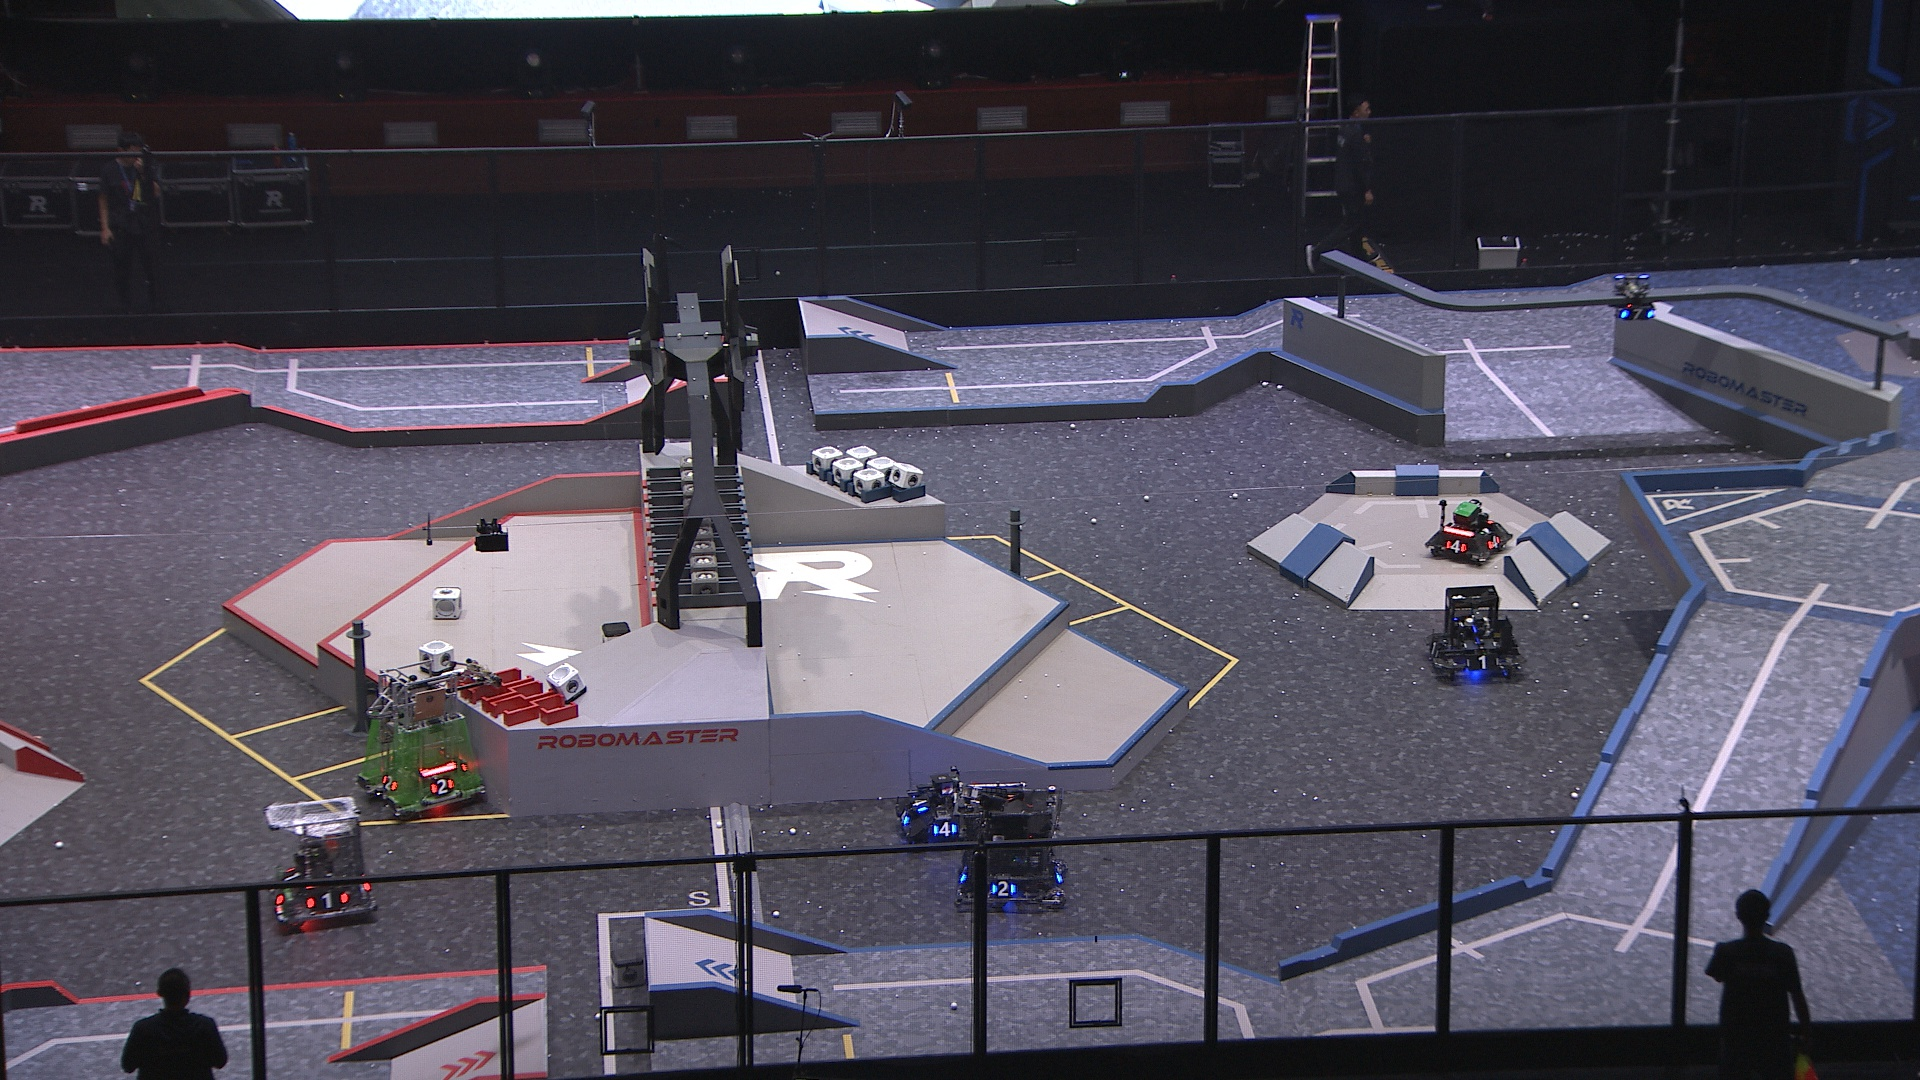armor: (305, 889, 349, 913), (1465, 654, 1503, 671), (1461, 637, 1501, 651), (1621, 306, 1656, 322), (992, 880, 1021, 898), (430, 777, 455, 796), (934, 822, 959, 839), (910, 796, 932, 815), (897, 806, 913, 828), (284, 865, 302, 884), (1486, 533, 1503, 553), (382, 774, 400, 793), (1447, 541, 1468, 555), (1429, 640, 1443, 661)
car: (357, 661, 487, 822), (953, 778, 1067, 916), (264, 794, 380, 926), (1428, 585, 1524, 683), (895, 766, 989, 847), (1428, 501, 1515, 566)
watcher: (1611, 273, 1658, 324)
